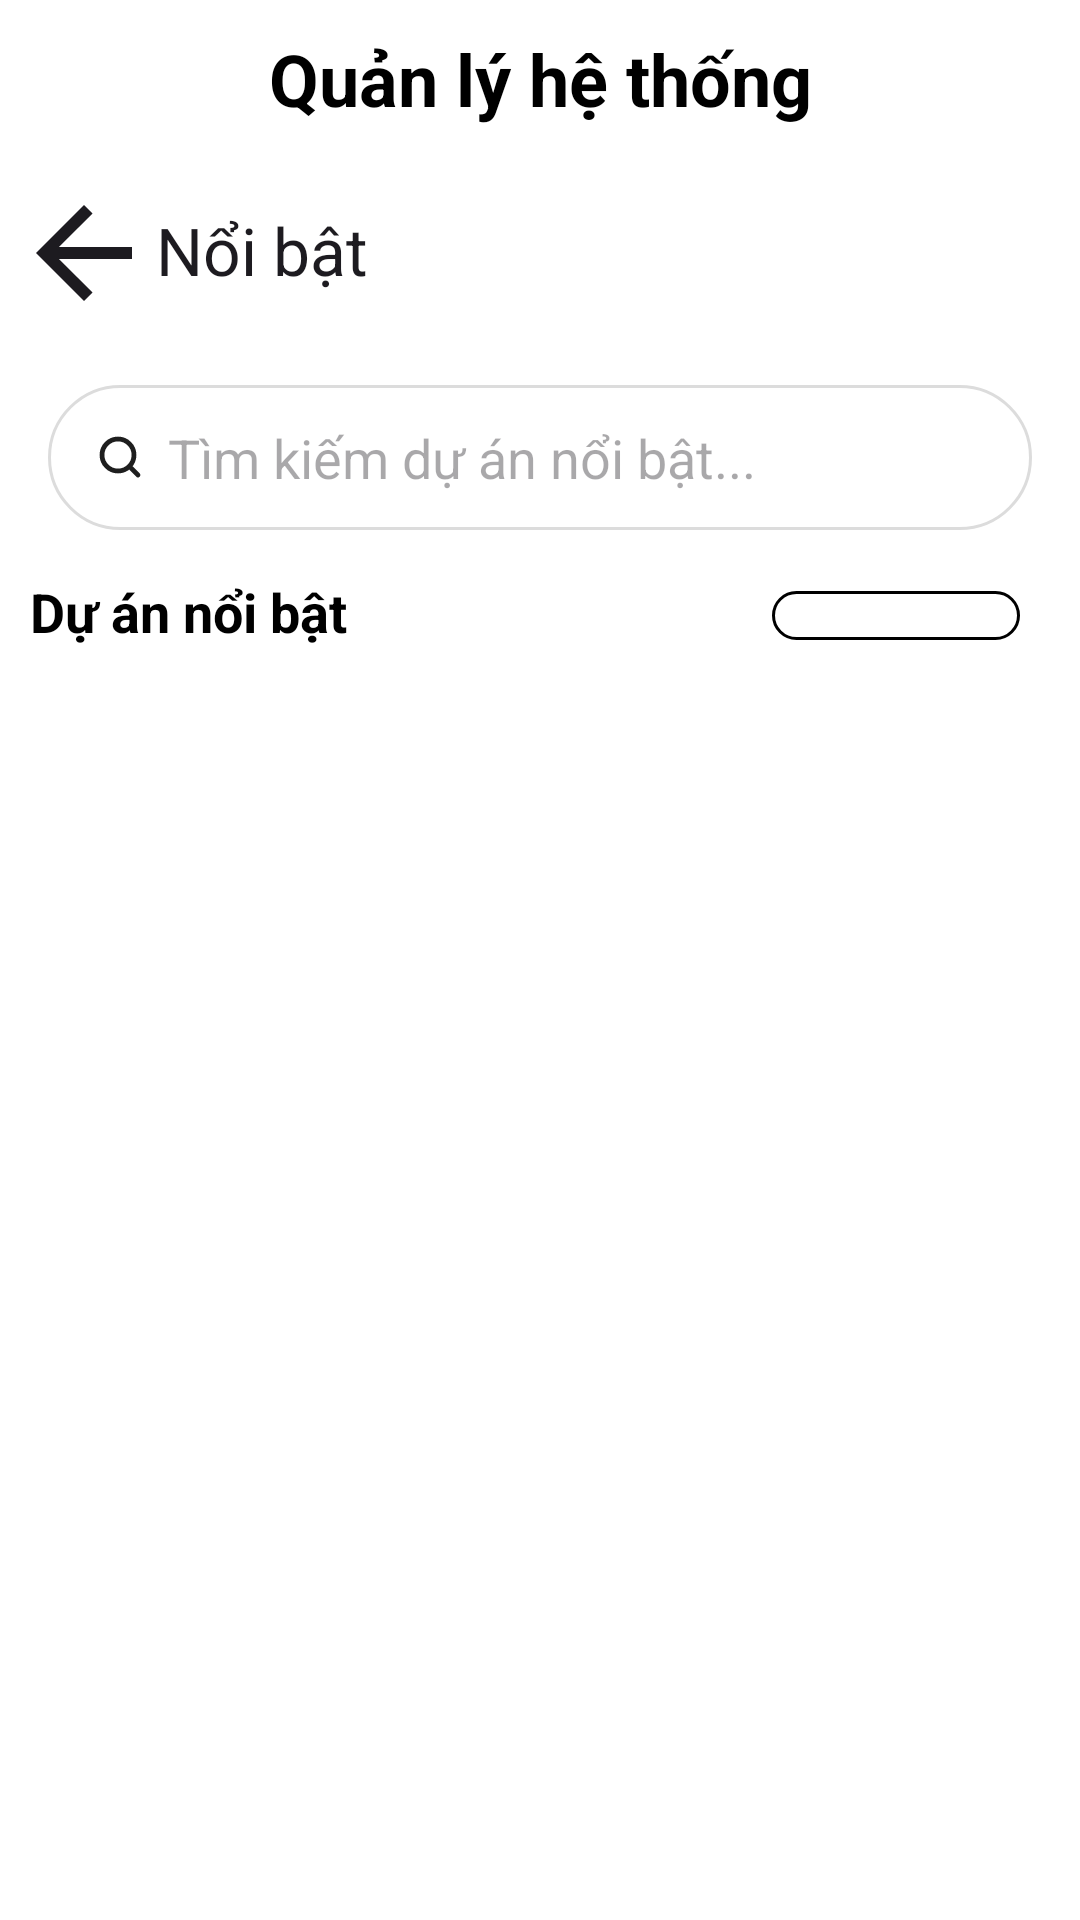

Named icons in this screenshot (1080 x 1920) and their bounding boxes, region(x1, y1, x2, y2):
arrow back left: region(36, 205, 132, 301)
